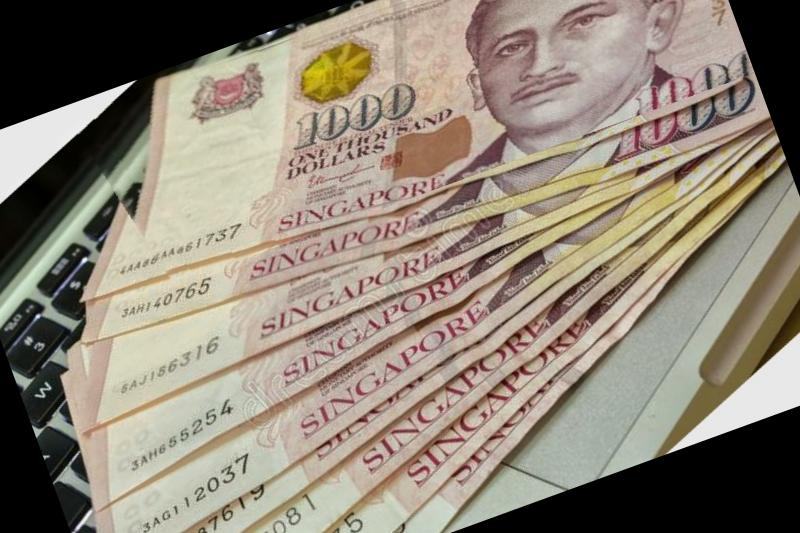1000SingaporeDollar: (66, 0, 755, 299)
